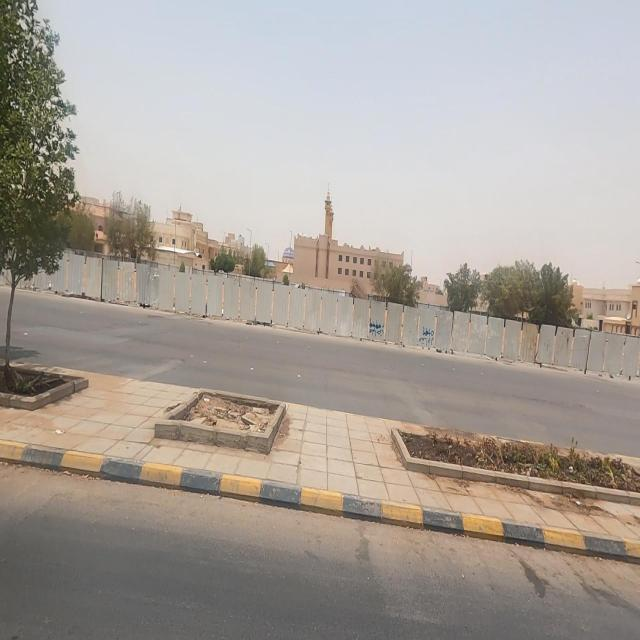Graffiti: (421, 327, 435, 349), (371, 318, 385, 339)
